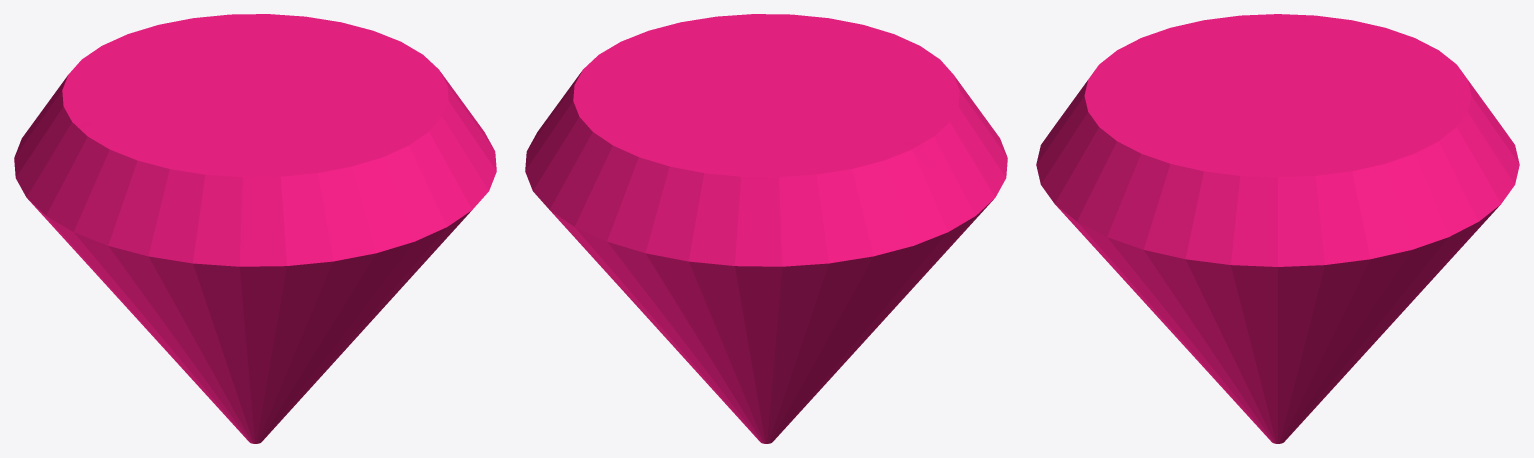
The model's file is gem.fbx.
The picture shows the model from 3 angles, left to right: view 1: azimuth 30°, elevation 25°; view 2: azimuth 150°, elevation 25°; view 3: azimuth 270°, elevation 25°; orthographic projection.
Visible parts, largest first — view 1: Circle; view 2: Circle; view 3: Circle.
Part boxes in pixels (x1=…): Circle: x1=14, y1=14, x2=496, y2=443; Circle: x1=525, y1=14, x2=1007, y2=443; Circle: x1=1036, y1=14, x2=1519, y2=443.
Bounding box in the file's own units: 200 × 158 × 200.
1 material, 1 textured.
